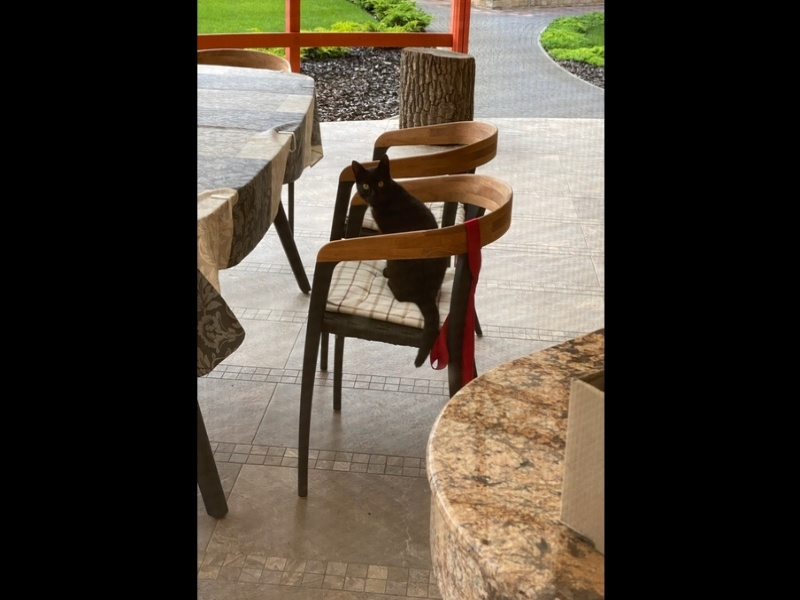cat: (346, 155, 453, 373)
